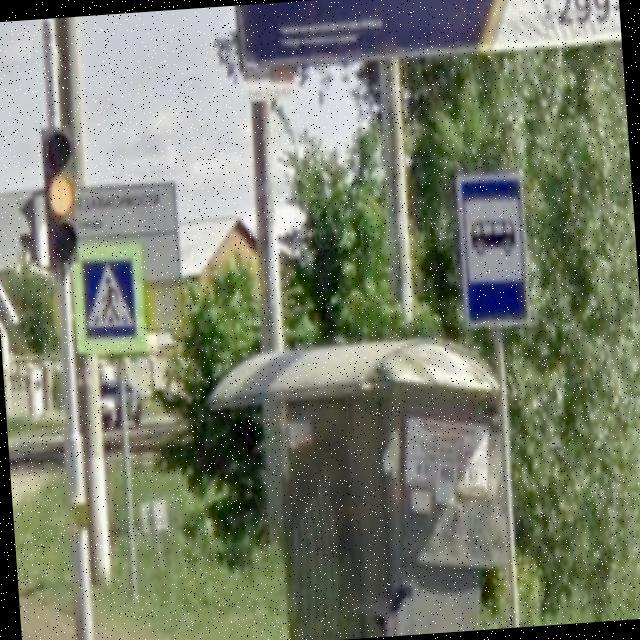Przejscie dla pieszych: (68, 236, 150, 359)
